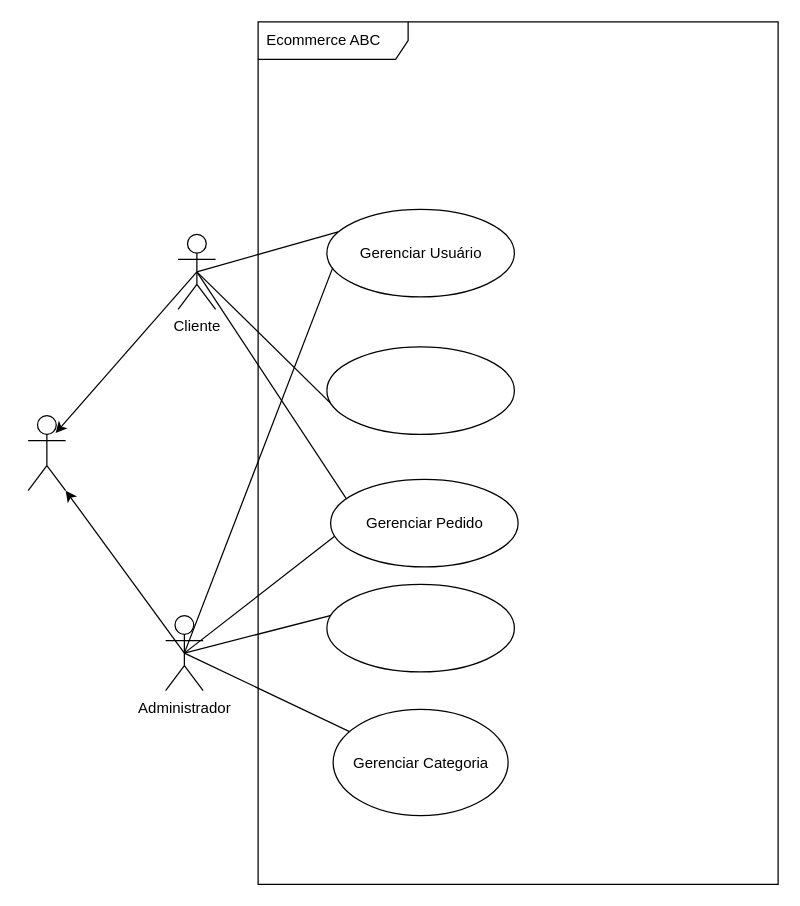
Image size: 800x906. Some labels were removed from this diagram. Here are the shapes that lost their labels. From the top down, the centre of each, then its label:
At pixel 420 390: "Gerenciar Carrinho de Compras".
At pixel 46 452: "Usuário".
At pixel 420 627: "Gerenciar Produto".
